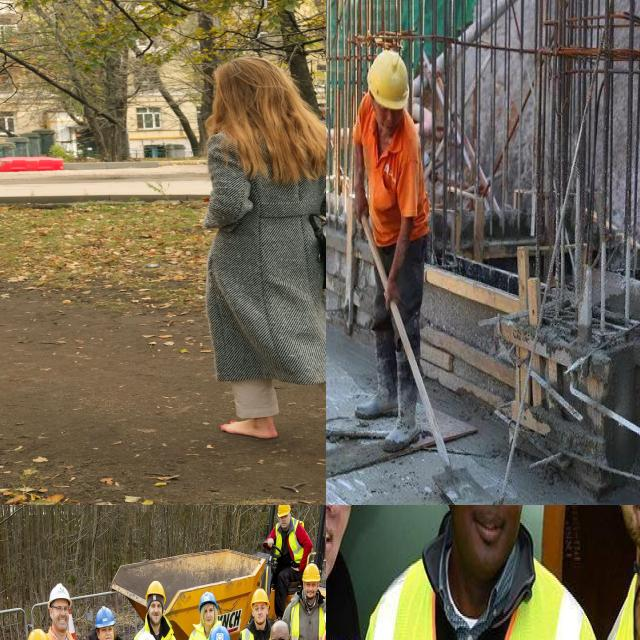Barefoots: (220, 420, 278, 439)
boots: (355, 340, 401, 422), (382, 379, 422, 454)
face_nomask: (438, 505, 531, 584), (375, 109, 401, 138), (302, 577, 322, 604), (54, 602, 69, 636), (201, 603, 216, 635), (150, 600, 162, 628), (278, 513, 292, 531), (101, 622, 114, 640)
glasses: (54, 605, 70, 615)
hand_noglove: (378, 275, 408, 311), (351, 187, 372, 221)
head_helmet: (364, 53, 413, 108), (48, 582, 72, 610), (94, 605, 116, 629), (145, 580, 166, 605), (209, 622, 234, 640), (250, 588, 270, 608), (302, 563, 321, 583), (200, 591, 218, 612), (25, 628, 51, 640), (134, 631, 159, 640), (277, 505, 290, 517)
head_nohelmet: (268, 619, 291, 640)
person: (375, 505, 592, 640), (354, 52, 421, 441), (267, 505, 305, 621), (285, 562, 326, 640), (131, 584, 182, 640), (48, 583, 85, 640), (236, 586, 270, 640), (191, 596, 226, 640), (86, 608, 129, 640)
vest: (380, 564, 594, 640), (289, 601, 326, 640), (274, 522, 306, 566), (150, 625, 185, 640), (48, 627, 85, 640), (182, 625, 209, 640), (241, 628, 267, 640)
